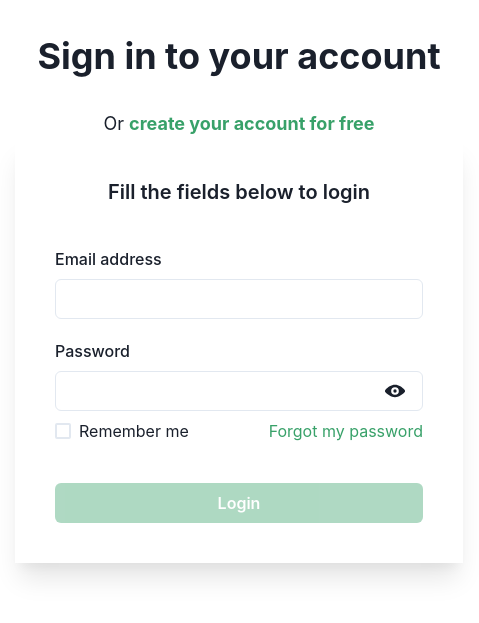
Test case: Login › CT 05 - Informar dados inválidos
clicar e digitar usuario inválido
Type "usert10.digital" into the label with id "field-1-label" at (109, 259), box [55,249,162,269]
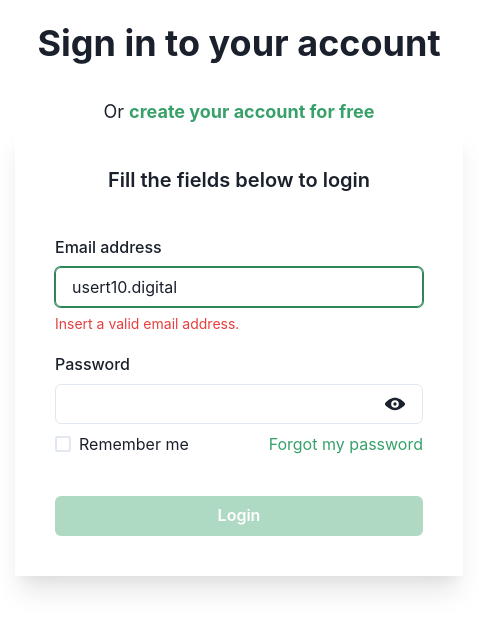
Expected: the text with id "field-1-feedback" reads "Insert a valid email address.", [55,315,239,332]
clicar e digitar senha inválida
Type "123456" into the label with id "field-2-label" at (93, 364), box [55,354,130,374]
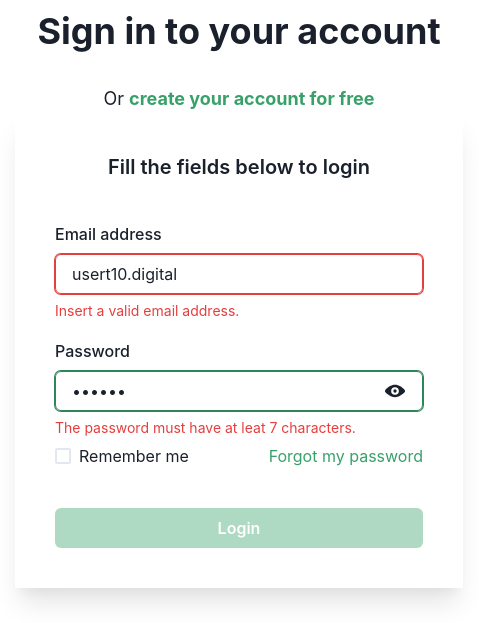
Expected: the text with id "field-2-feedback" reads "The password must have at leat 7 characters.", [55,419,356,436]
